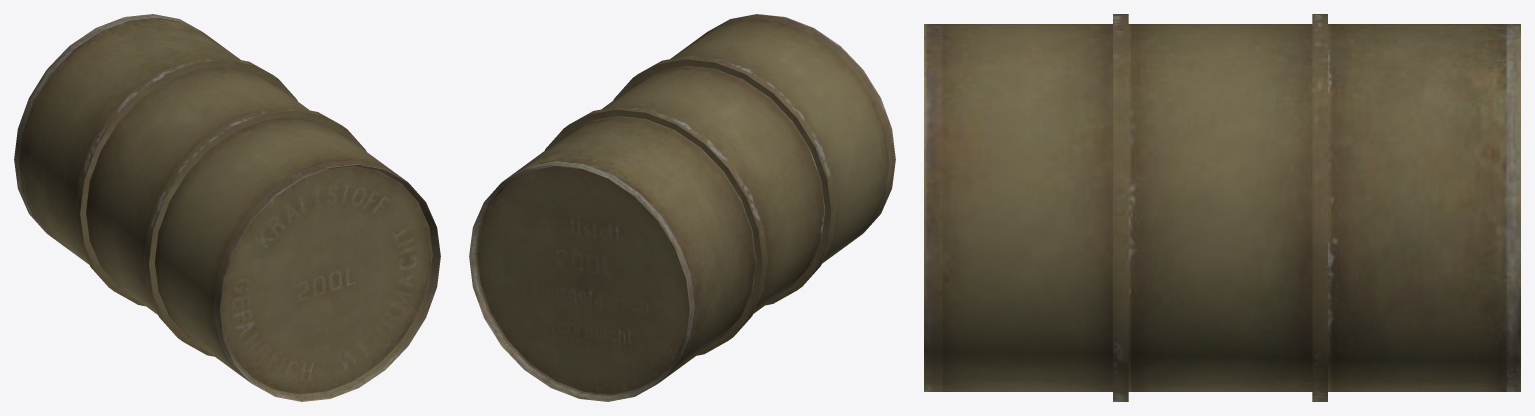
File: prop_barrel_tan_wet.glb
3 renders of one model, left to right at view 1: azimuth 30°, elevation 25°; view 2: azimuth 150°, elevation 25°; view 3: azimuth 270°, elevation 25°, orthographic. The views are drawn at different scales.
Bounding box in the file's own units: 28.93 × 28.93 × 44.32.
1 material, 1 textured.
